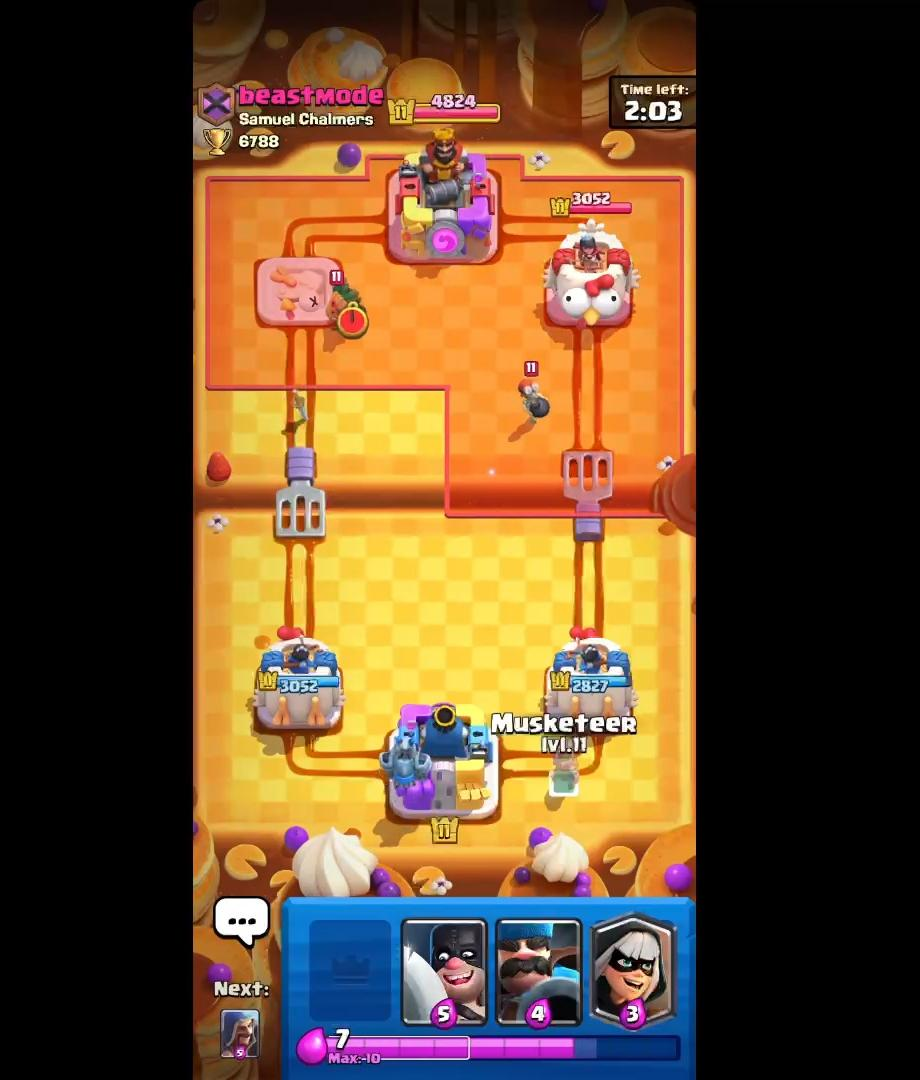Bomber: (512, 353, 556, 434)
